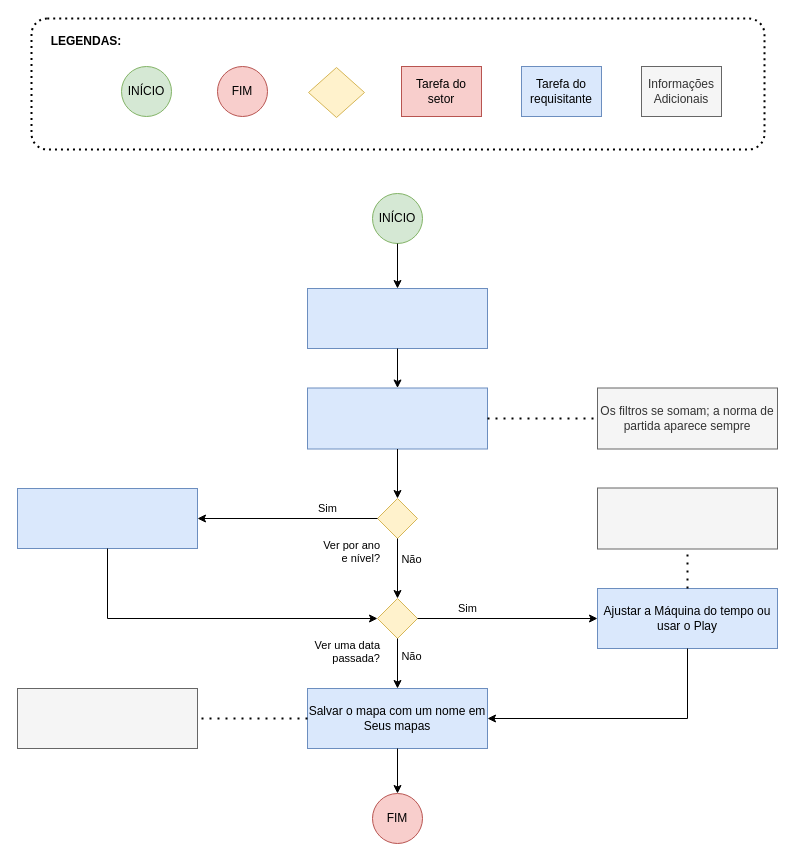
Some shapes in this 795 by 861 pixel diagram are drawn without their labels. Each missing label, with the centre of its shape:
"Escolher a norma de partida (FAROL05)" belongs at point 397,318.
"Escolher a vista Cronológico-hierárquica" belongs at point 107,518.
"Marcar os filtros: relação, nível, situação, tipo, tema e órgão" belongs at point 397,418.
"Normas que ainda não existiam aparecem tracejadas em azul" belongs at point 687,518.
"Os mapas salvos ficam só neste navegador" belongs at point 107,718.
"SE" belongs at point 336,92.
